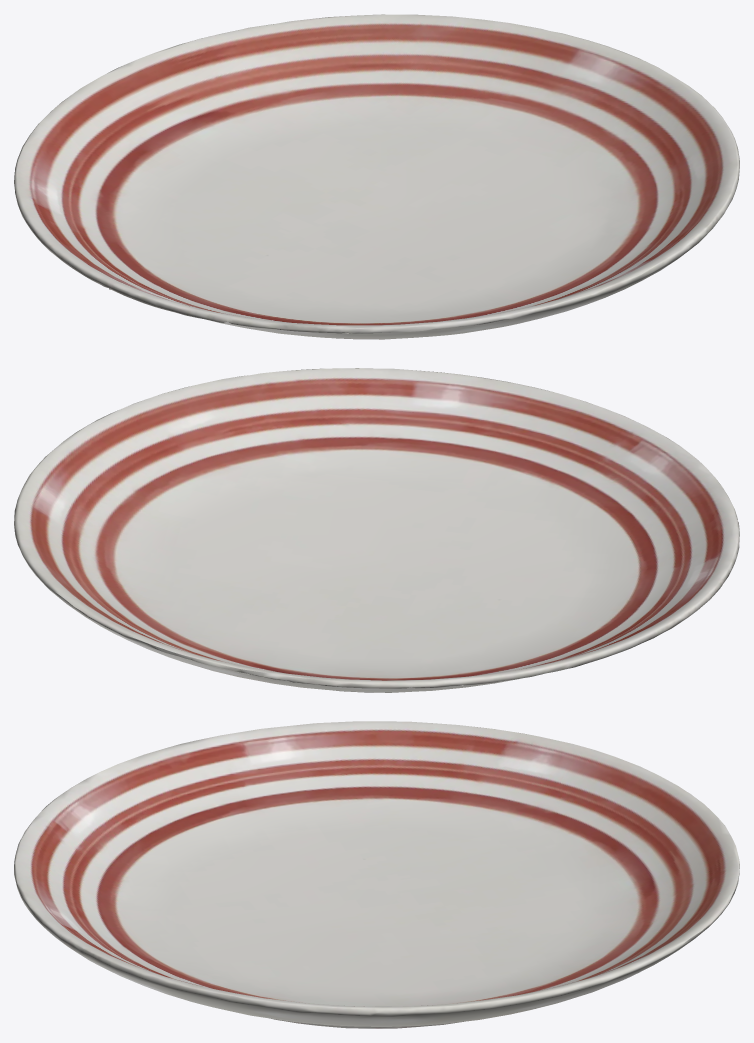
Rendered from Threshold_Bistro_Ceramic_Dinner_Plate_Ruby_Ring.glb.
The picture shows the model from 3 angles, top to bottom: view 1: azimuth 30°, elevation 25°; view 2: azimuth 150°, elevation 25°; view 3: azimuth 270°, elevation 25°; orthographic projection.
Visible parts, largest first — view 1: model.obj; view 2: model.obj; view 3: model.obj.
Boxes of the visible parts, left/top/right/bottom form: model.obj: left=14, top=14, right=739, bottom=339; model.obj: left=14, top=368, right=739, bottom=692; model.obj: left=14, top=721, right=739, bottom=1028.
Size of the model in its own units: 1 by 0.1213 by 0.9981.
1 material, 1 textured.
